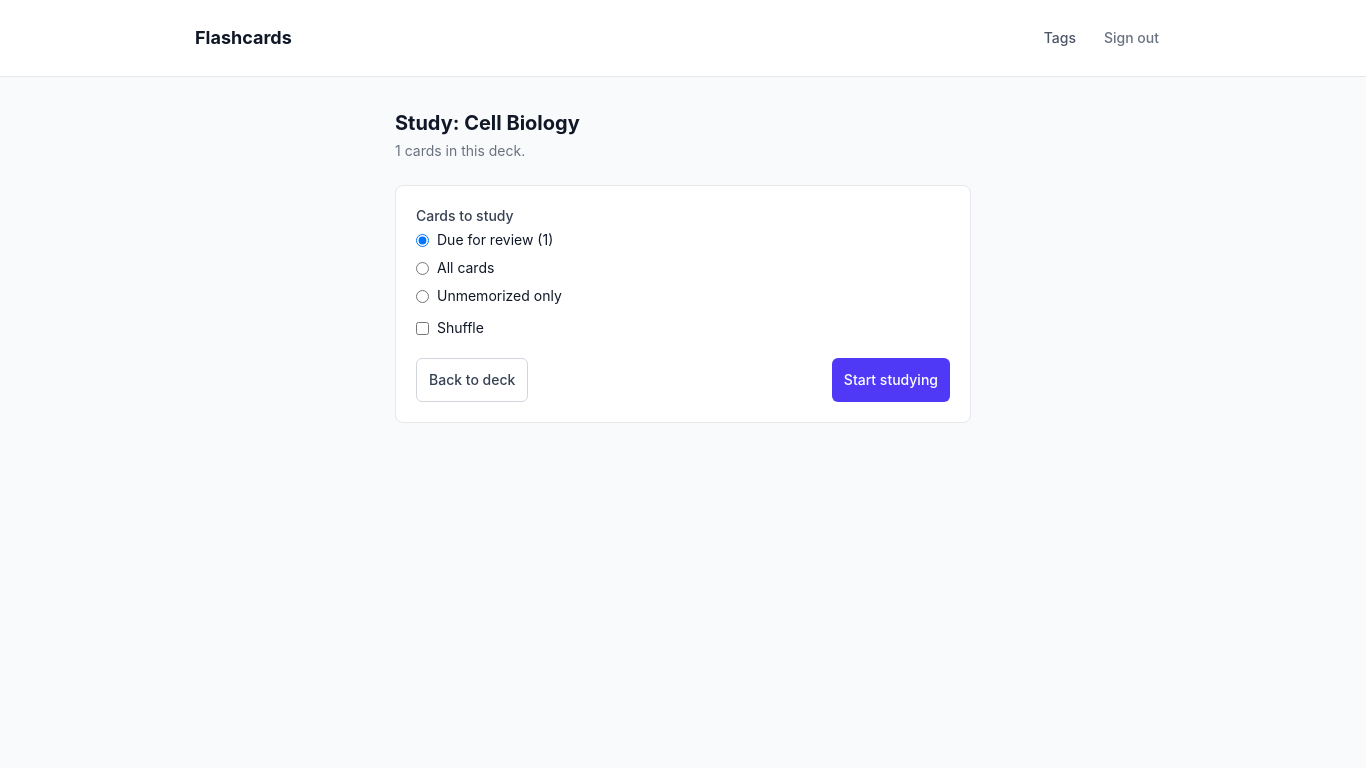
Test: a failed save retries the identical request and prevents choosing another rating
Click the button "Start studying". click: (891,380)
box: 832,358 -> 950,402
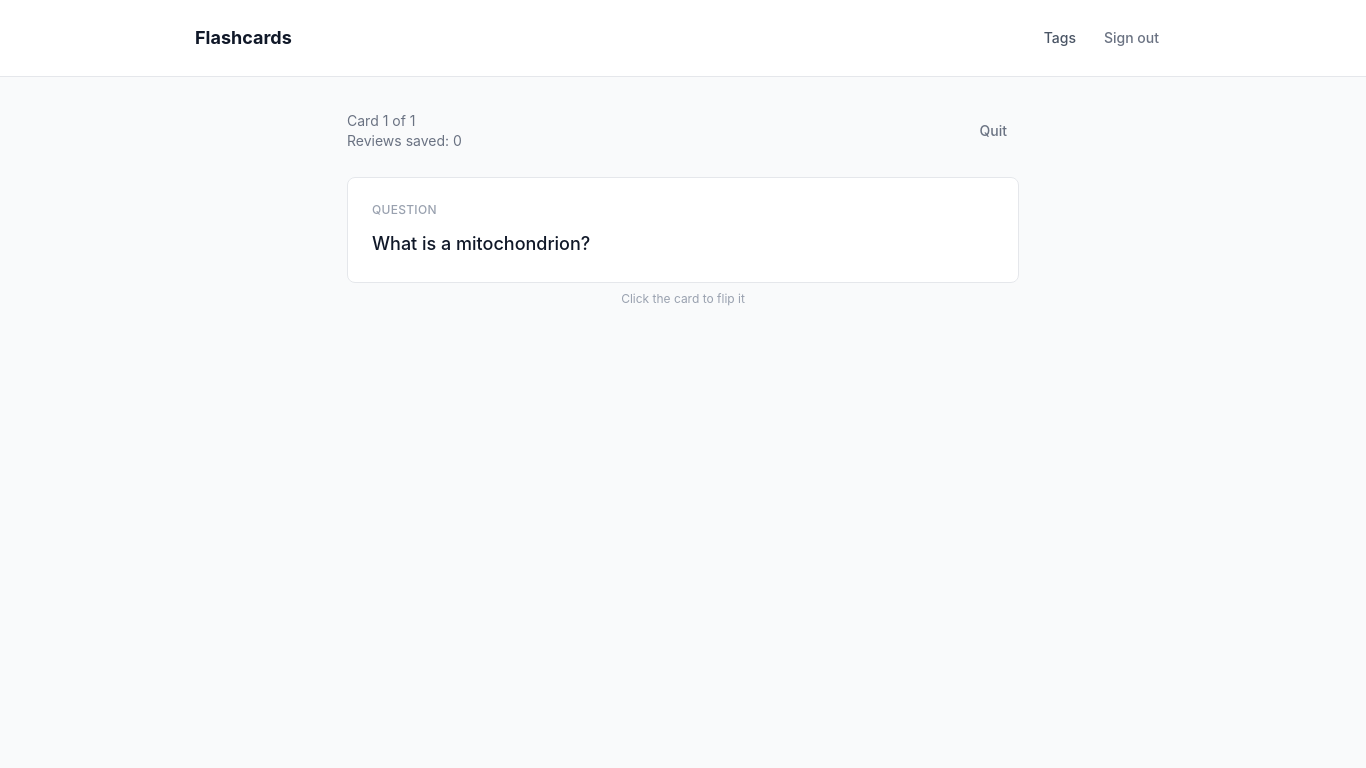
Click the button with aria-label "Flip card". click: (683,230)
box: 347,177 -> 1019,283
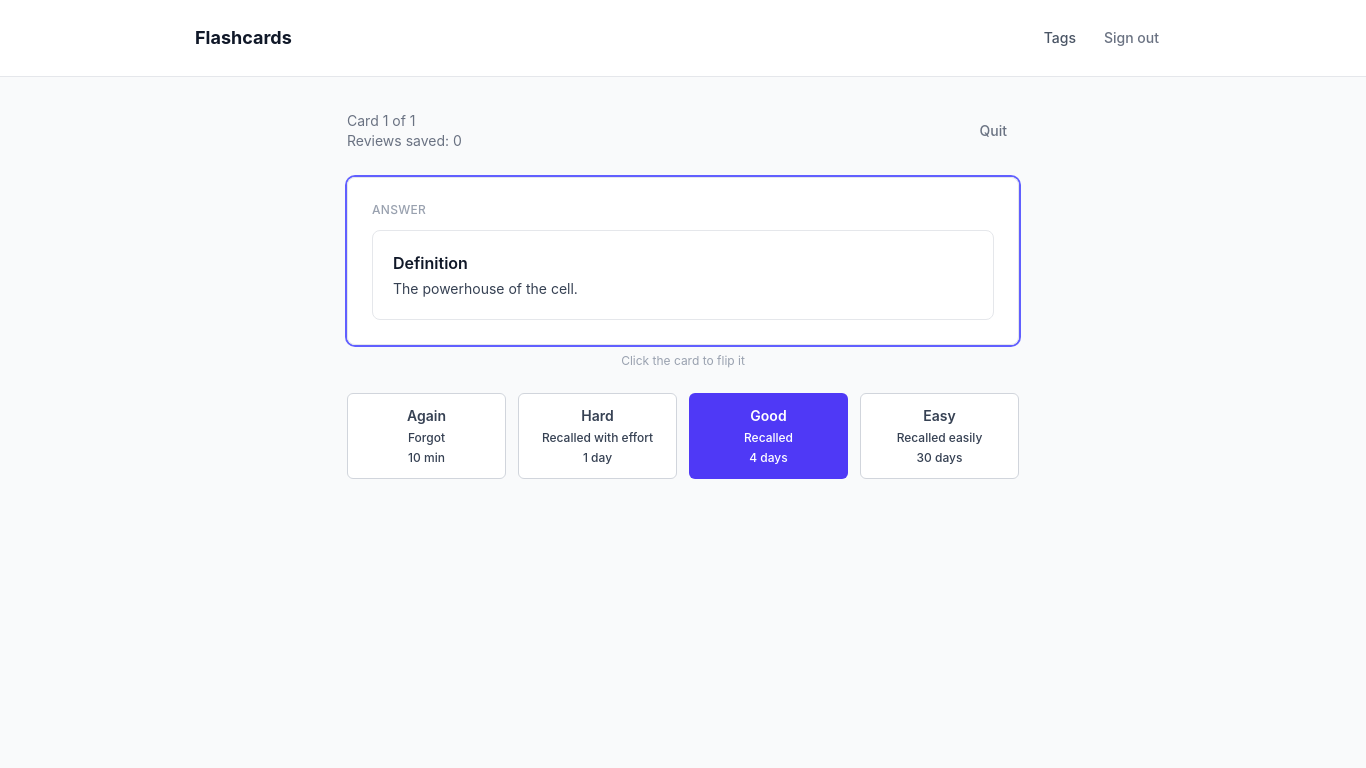
Click the button "Good Recalled 4 days". click: (768,436)
box: 689,393 -> 848,479
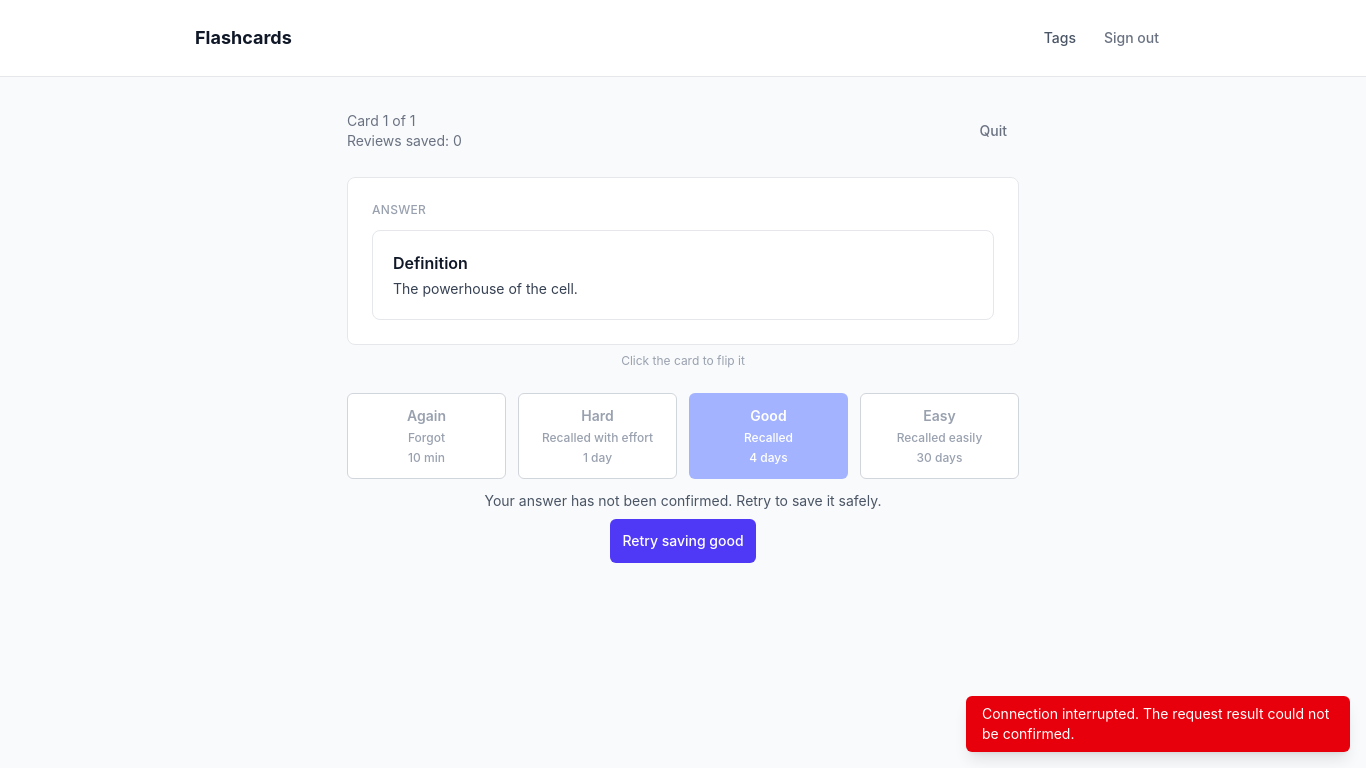
Expected: the message "Connection interrupted. The request result could not be confirmed." is shown, 966,696 -> 1350,752
Expected: the button "Easy Recalled easily 30 days" is disabled, 860,393 -> 1019,479
Click the button "Retry saving good". click: (683,541)
box: 610,519 -> 756,563
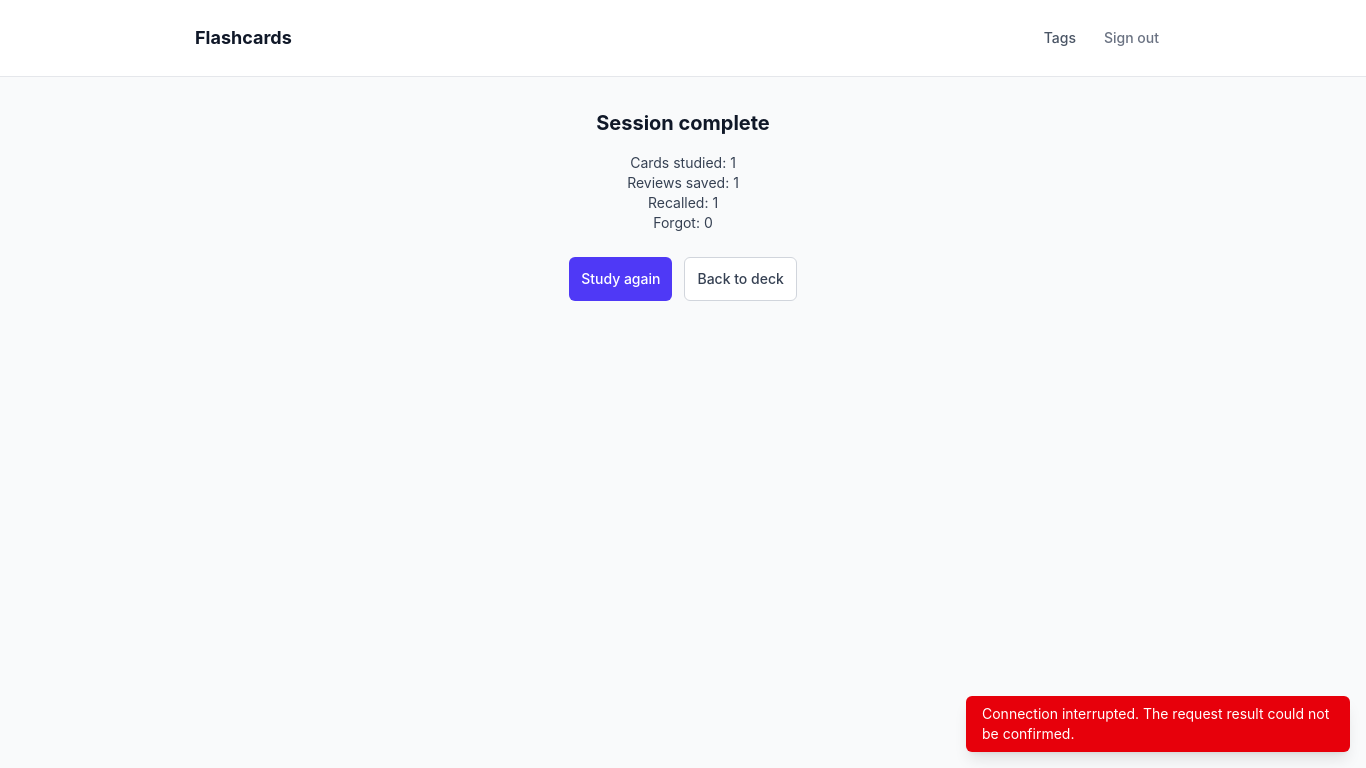
Expected: the heading "Session complete" is shown, 596,111 -> 770,135
Expected: the text "Reviews saved: 1" is shown, 627,174 -> 739,191
